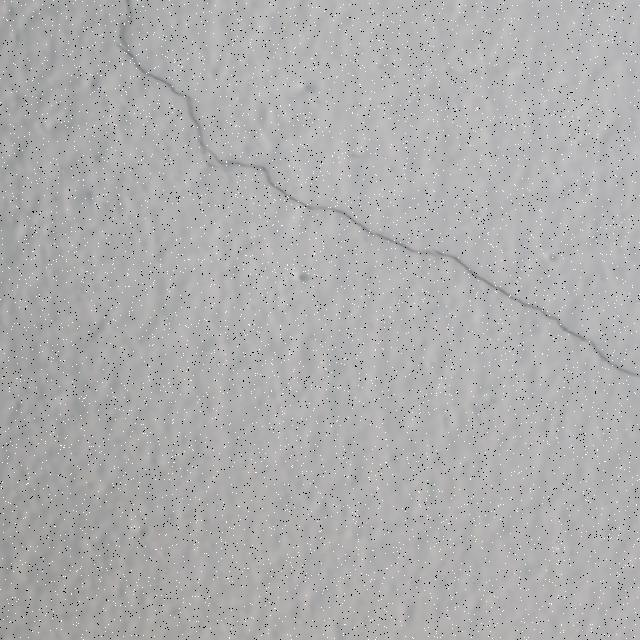minor crack: (107, 0, 640, 391), (116, 7, 201, 114), (170, 115, 263, 185), (411, 240, 507, 289), (577, 334, 628, 370), (256, 165, 296, 201)
moderate crack: (454, 261, 626, 372)
severe crack: (242, 162, 412, 253)
